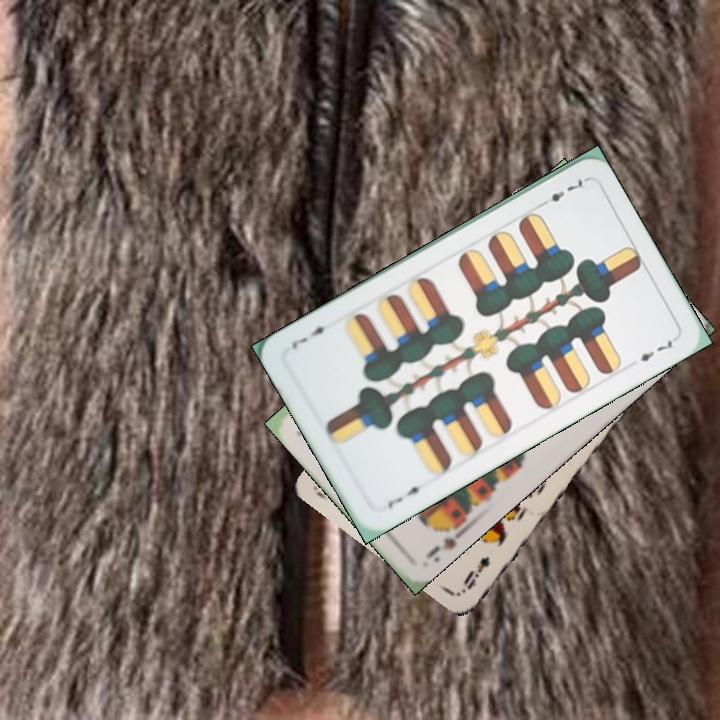E7: (534, 174, 588, 211), (383, 481, 429, 511)
E9: (458, 552, 493, 593)
S9: (422, 516, 470, 565)
